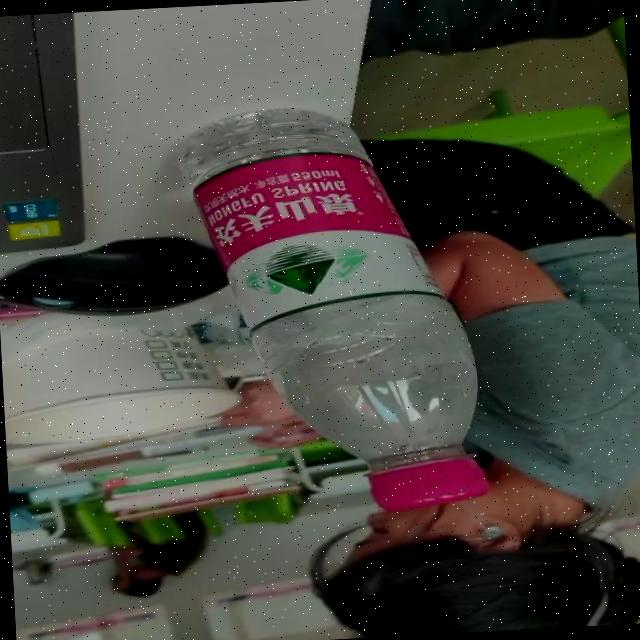bottle: (167, 107, 490, 525)
cap: (369, 452, 490, 512)
label: (217, 143, 452, 317)
